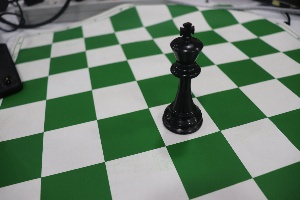black_king: (156, 10, 208, 135)
